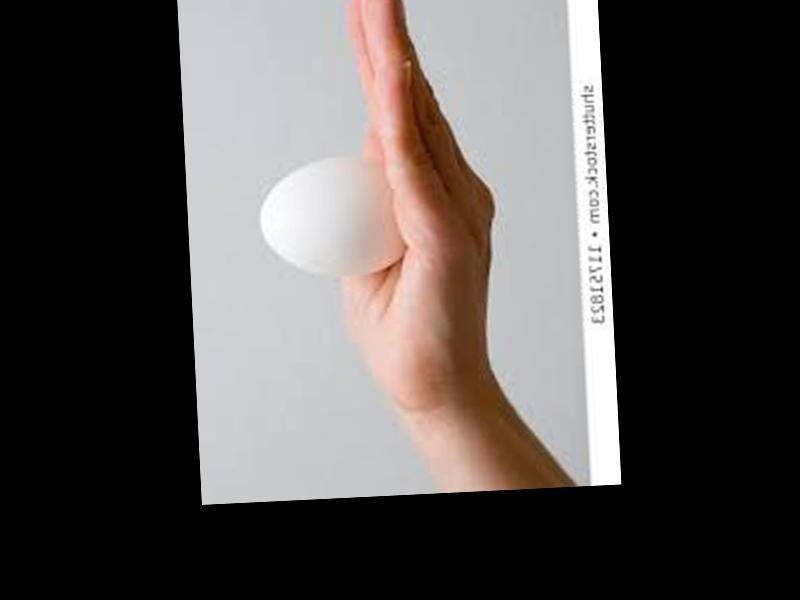Eggs: (258, 154, 407, 273)
